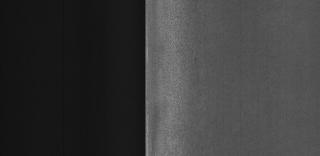silk spot: (169, 24, 207, 132)
